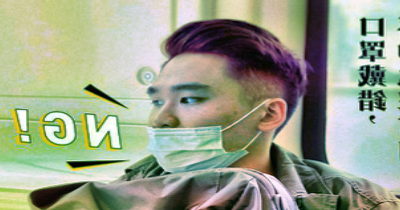mask_weared_incorrect: (145, 81, 249, 173)
